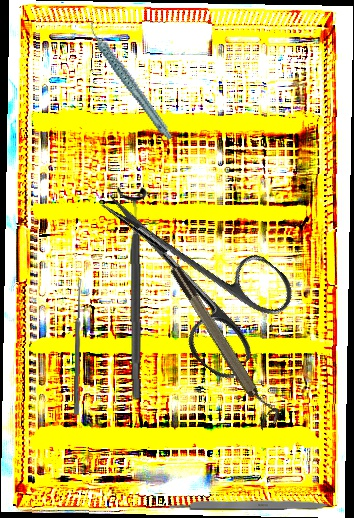Fixation Ring: (166, 258, 285, 432), (116, 185, 152, 401)
Handpiece: (86, 8, 175, 152)
Iris Scissors: (64, 156, 306, 385)
Scalpel Handle: (167, 499, 333, 510)
Surgical Spoon: (73, 278, 83, 416)
